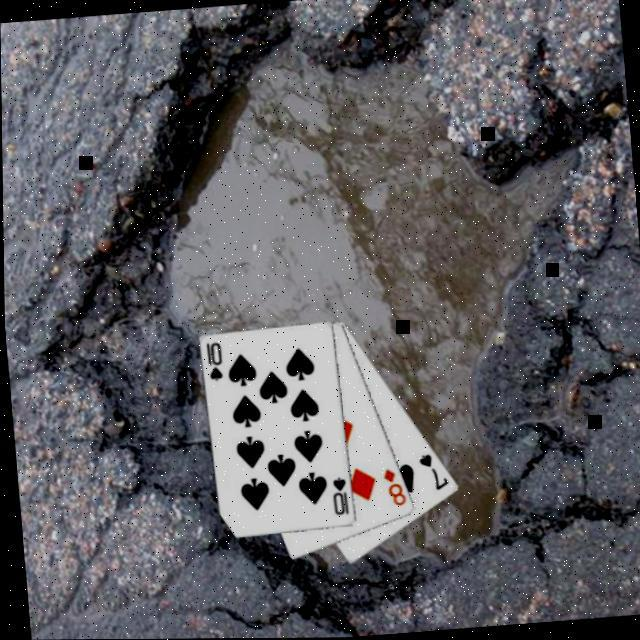10S: (326, 474, 350, 519), (202, 340, 224, 386)
7S: (413, 451, 449, 495)
8D: (376, 466, 406, 512)
